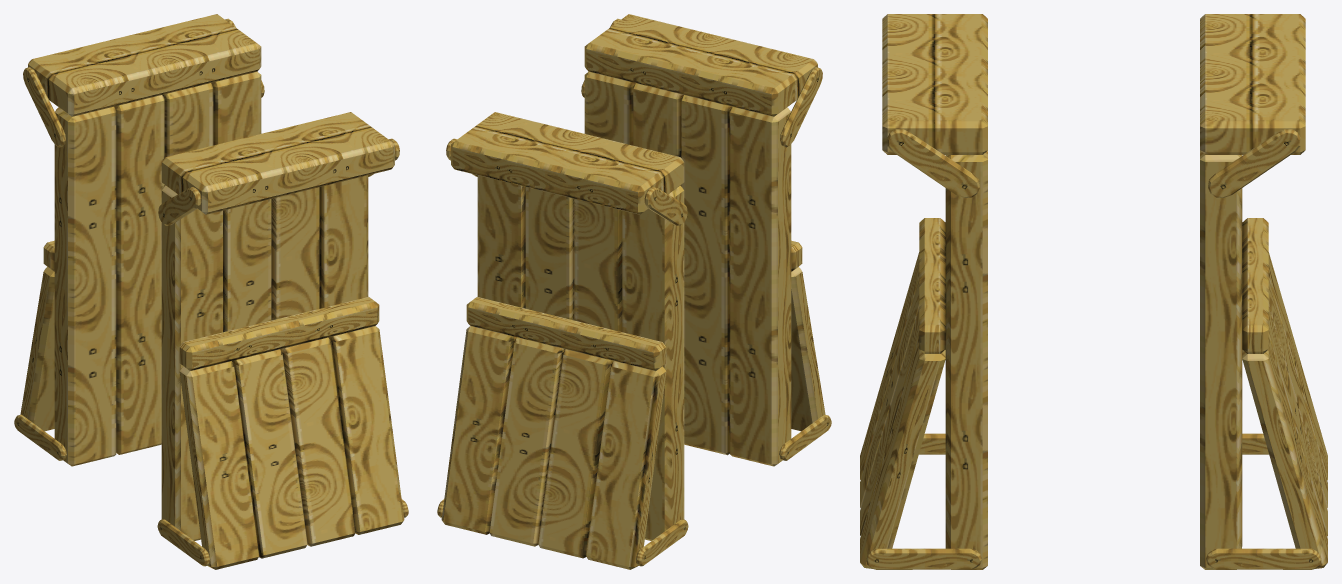
File: HeavenlyBeachTimerStepB_bake.dae
3 views of the same model, side by side, from view 1: azimuth 30°, elevation 25°; view 2: azimuth 150°, elevation 25°; view 3: azimuth 270°, elevation 25° (orthographic). The views are drawn at different scales.
Parts seen in each view (by area): view 1: m0; view 2: m0; view 3: m0.
Part boxes in pixels (x1,y1,x2,y2): m0: [14, 14, 408, 569]; m0: [437, 14, 831, 569]; m0: [860, 14, 1327, 569].
Bounding box in the file's own units: 528 × 935 × 883.
2 materials, 2 textured.
